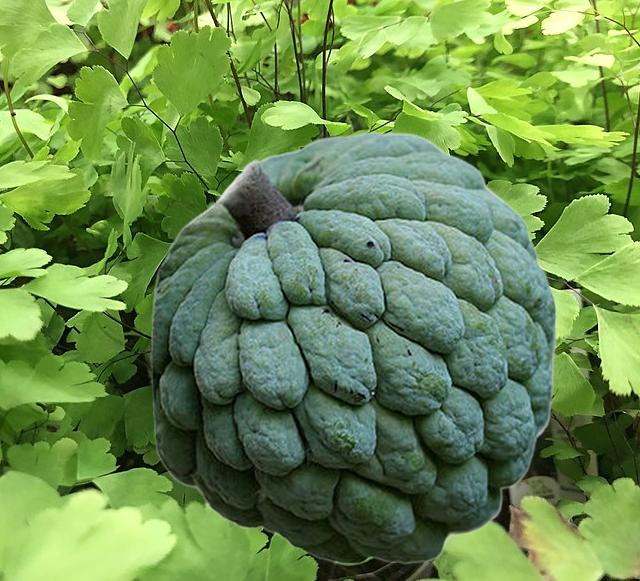atis: (150, 131, 556, 564)
